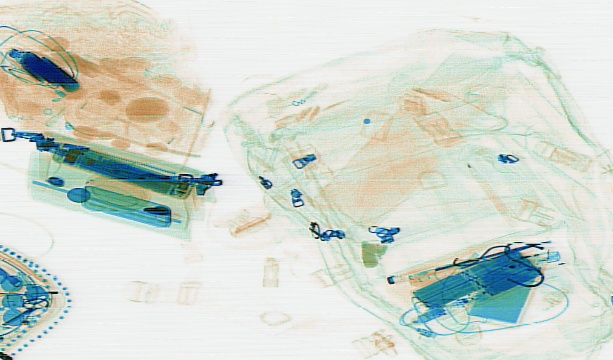lighter: (491, 247, 561, 269)
powerbank: (410, 245, 541, 314), (15, 48, 80, 95)
